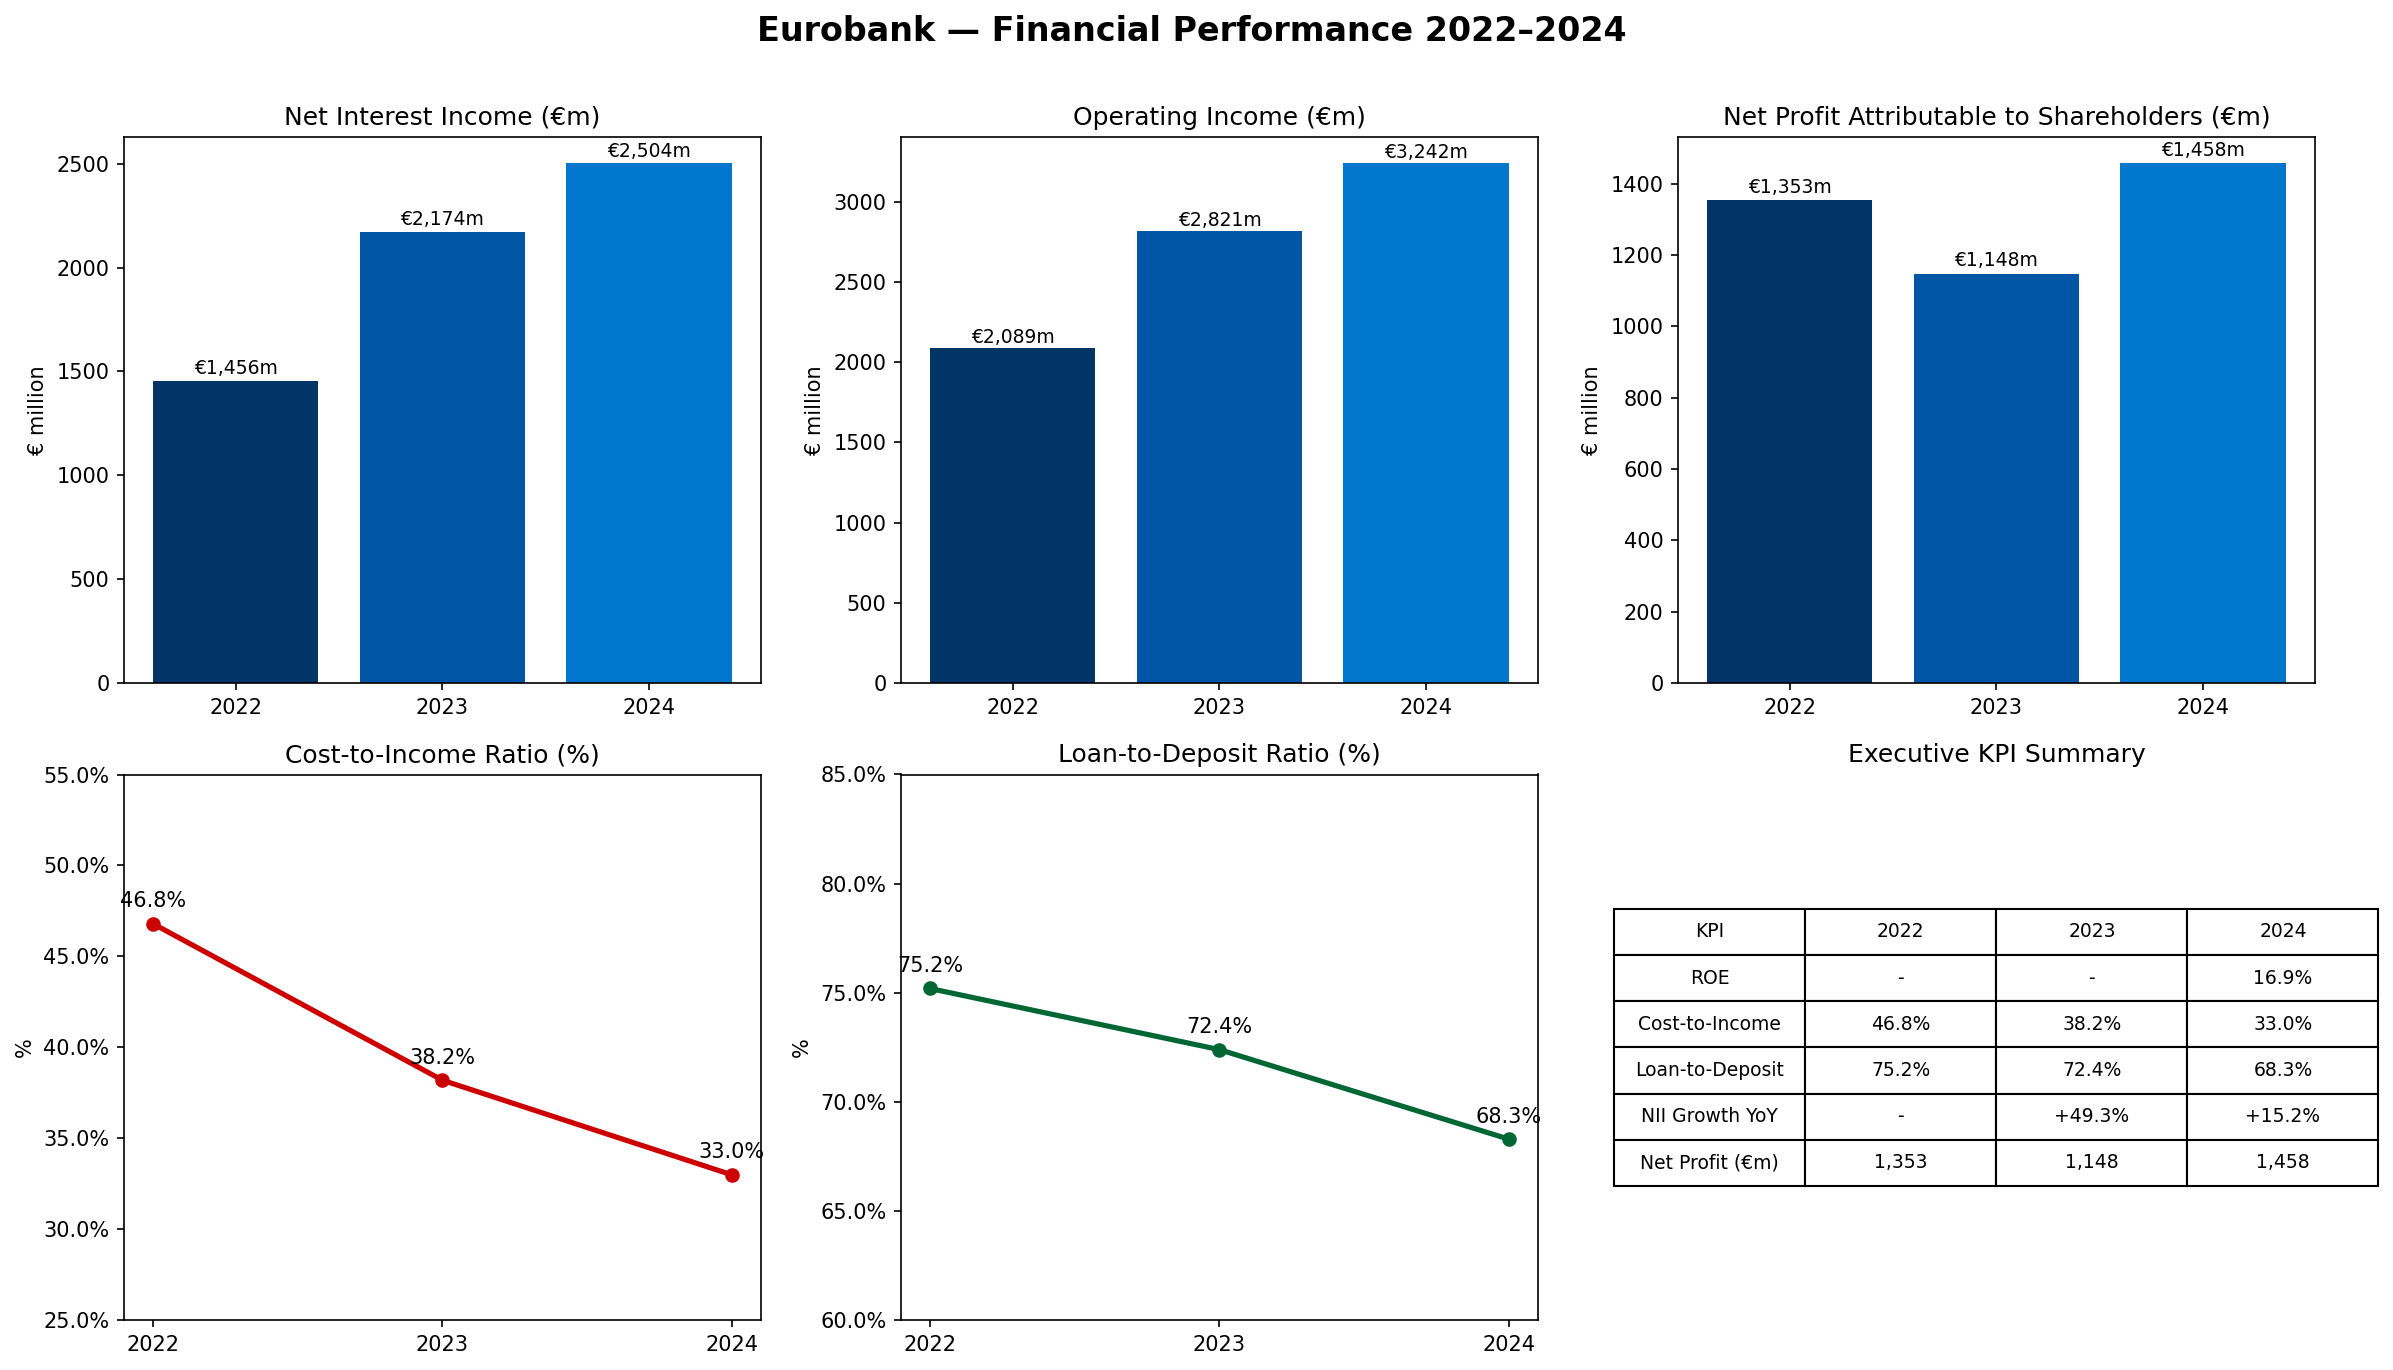

The dashboard page shown, as its layout file describes it:
{"tool":"powerbi","page":{"name":"Page 1","canvas":[1280,720],"ordinal":0},"visuals":[{"type":"listSlicer","title":"Year","fields":{"Values":["balance_sheet.year"]},"box":[10,4,103,211],"z":0},{"type":"card","fields":{"Values":["income_statement.ROE"]},"box":[151,38,174,103],"z":1000},{"type":"card","fields":{"Values":["income_statement.NII"]},"box":[347,38,171,103],"z":2000},{"type":"card","fields":{"Values":["income_statement.Net Profit"]},"box":[541,38,171,103],"z":3000},{"type":"clusteredBarChart","title":"Net Interest Income (€m)","fields":{"Category":["income_statement.year"],"Y":["income_statement.NII"]},"box":[89,149,319,95],"z":4000},{"type":"clusteredBarChart","title":"Operating Income (€m)","fields":{"Category":["income_statement.year"],"Y":["income_statement.Operating Income"]},"box":[415,148,317,95],"z":5000},{"type":"lineChart","title":"Cost-to-Income Ratio (%)","fields":{"Category":["income_statement.year"],"Y":["income_statement.Cost to Income"]},"box":[52,251,290,273],"z":6000},{"type":"lineChart","title":"Loan-to-Deposit Ratio (%)","fields":{"Y":["income_statement.Loan to Deposit"],"Category":["income_statement.year"]},"box":[422,251,290,255],"z":7000},{"type":"textbox","box":[52,506,290,214],"z":8000},{"type":"textbox","box":[94,0,653,38],"z":9000},{"type":"textbox","box":[733,89.5,317,150],"z":10000},{"type":"textbox","box":[733,240,317,221],"z":11000},{"type":"textbox","box":[1060,90,220,150],"z":12000}]}

Visuals, with their boxes in screenshot pixels (x1, y1, x2, y2), scaled from the page's 1280x720 canvas onto the 2393x1370 screenshot:
"Year" listSlicer: bbox=[19, 8, 211, 409]
card - income_statement.ROE: bbox=[282, 72, 608, 268]
card - income_statement.NII: bbox=[649, 72, 968, 268]
card - income_statement.Net Profit: bbox=[1011, 72, 1331, 268]
"Net Interest Income (€m)" clusteredBarChart: bbox=[166, 284, 763, 464]
"Operating Income (€m)" clusteredBarChart: bbox=[776, 282, 1368, 462]
"Cost-to-Income Ratio (%)" lineChart: bbox=[97, 478, 639, 997]
"Loan-to-Deposit Ratio (%)" lineChart: bbox=[789, 478, 1331, 963]
textbox: bbox=[97, 963, 639, 1369]
textbox: bbox=[176, 0, 1397, 72]
textbox: bbox=[1370, 170, 1963, 456]
textbox: bbox=[1370, 457, 1963, 877]
textbox: bbox=[1982, 171, 2392, 457]
